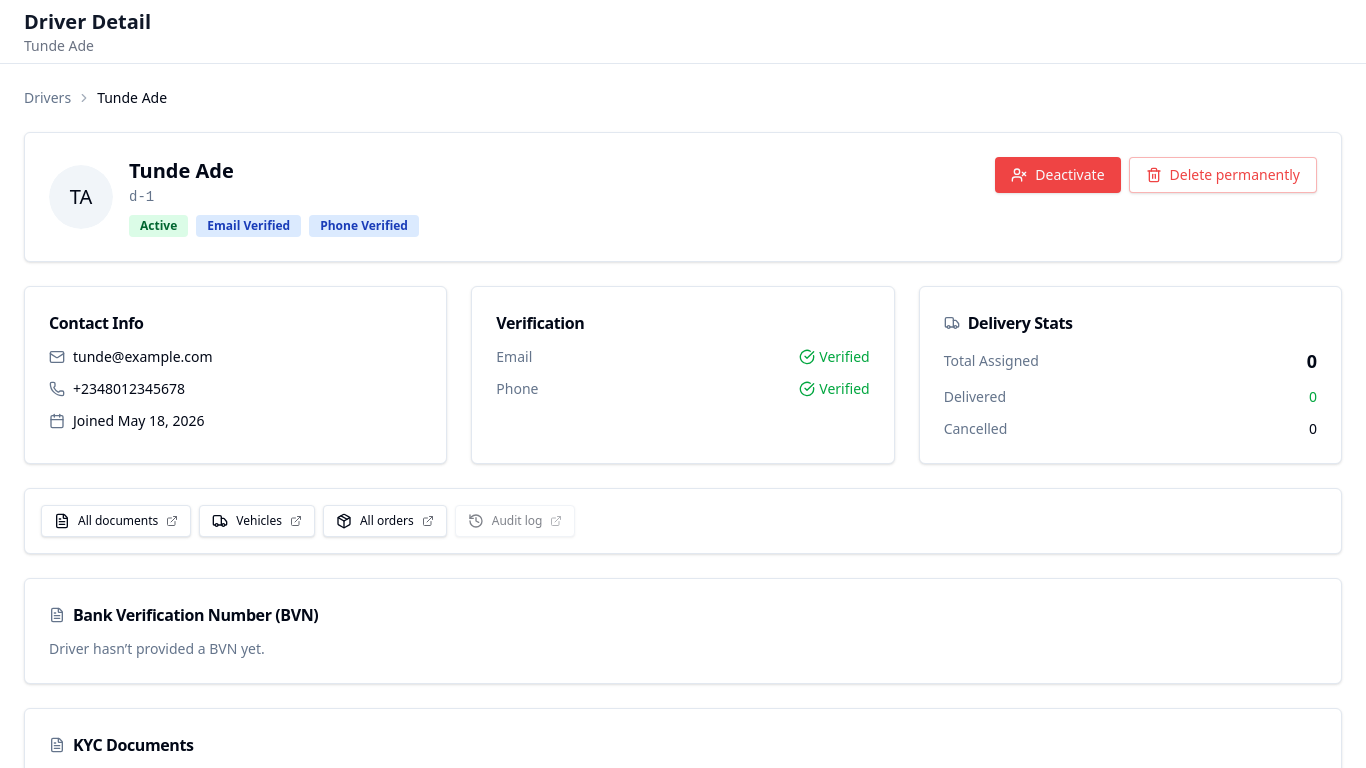
Test: DriverDetailPage permanent delete › confirms, deletes and returns to the drivers list
The width and height of the screenshot is (1366, 768).
Step 1. Click the button with test id "delete-user-button" → (1223, 175), box [1128, 157, 1317, 193]
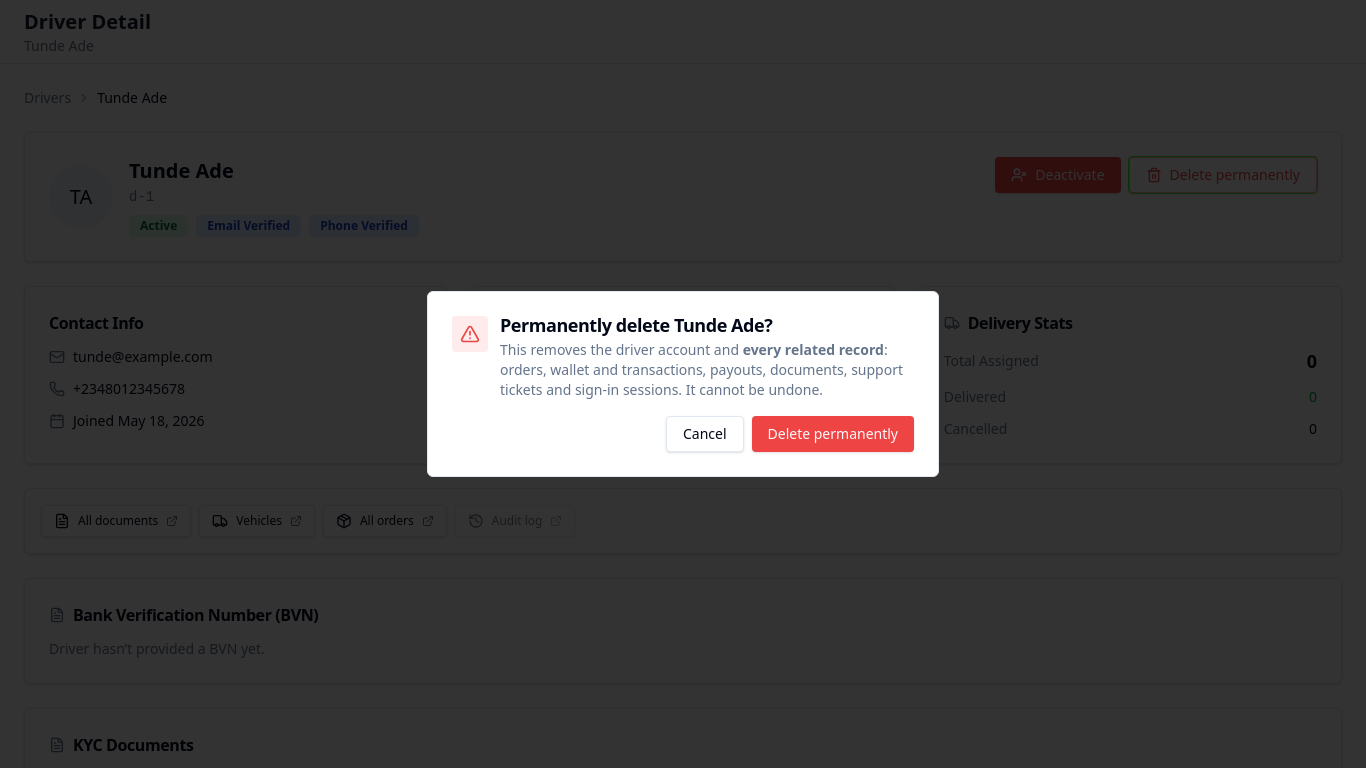
Step 2. Click the button "Delete permanently" below "This removes the" → (833, 434), box [752, 416, 914, 452]
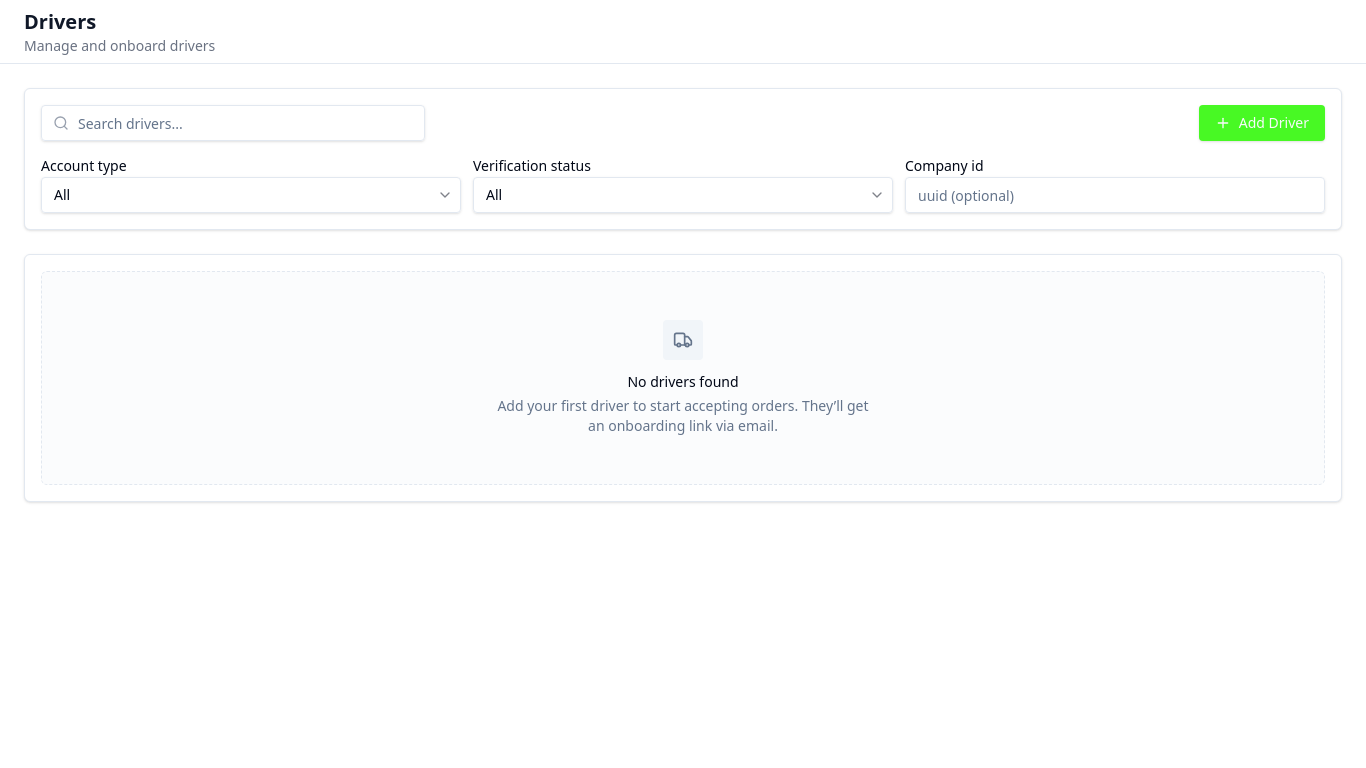
Check: the text "Manage and onboard drivers" is shown, box [24, 36, 215, 54]
